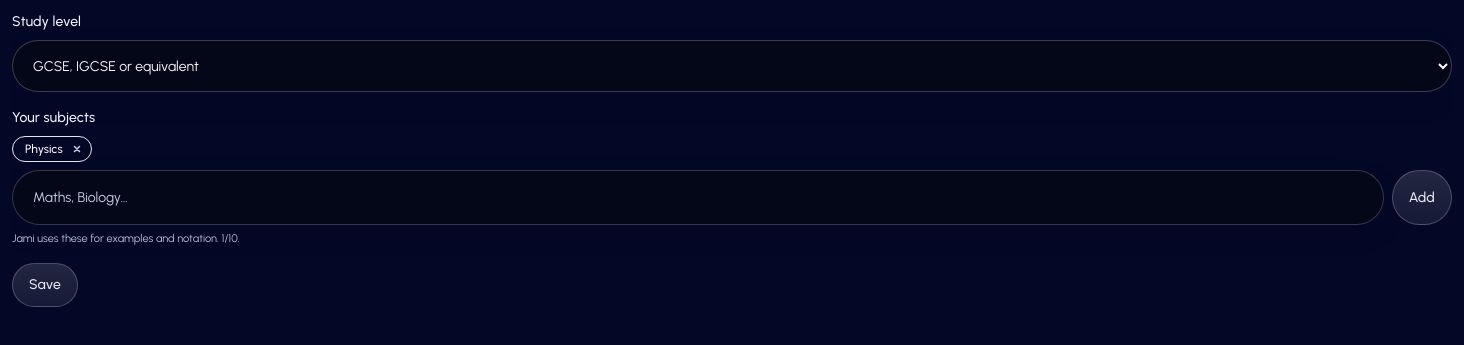
Test: the study profile form › keeps subjects editable after a drop to a level that does not need them
Select "GCSE, IGCSE or equivalent" in the dropdown labelled "Study level" at (732, 66), box [12,40,1452,92]
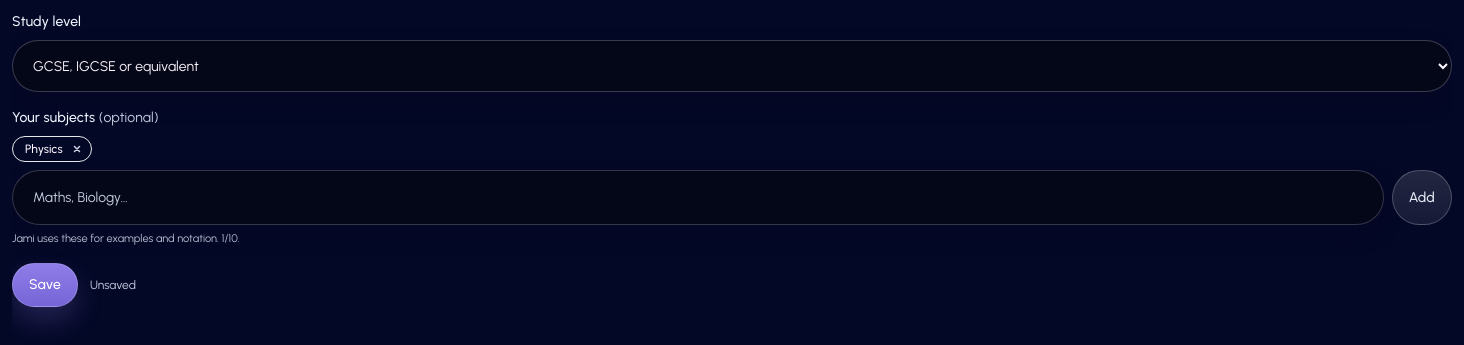
Check: the field with id "tutor-study-subject" is shown, box [12,170,1384,225]
Check: the text "(optional)" is shown, box [95,109,158,126]
Check: the button "Save" is enabled, box [12,263,78,307]
